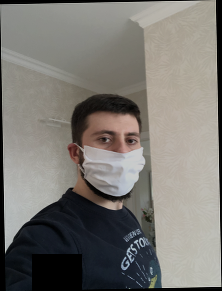with_mask: (82, 121, 146, 203)
